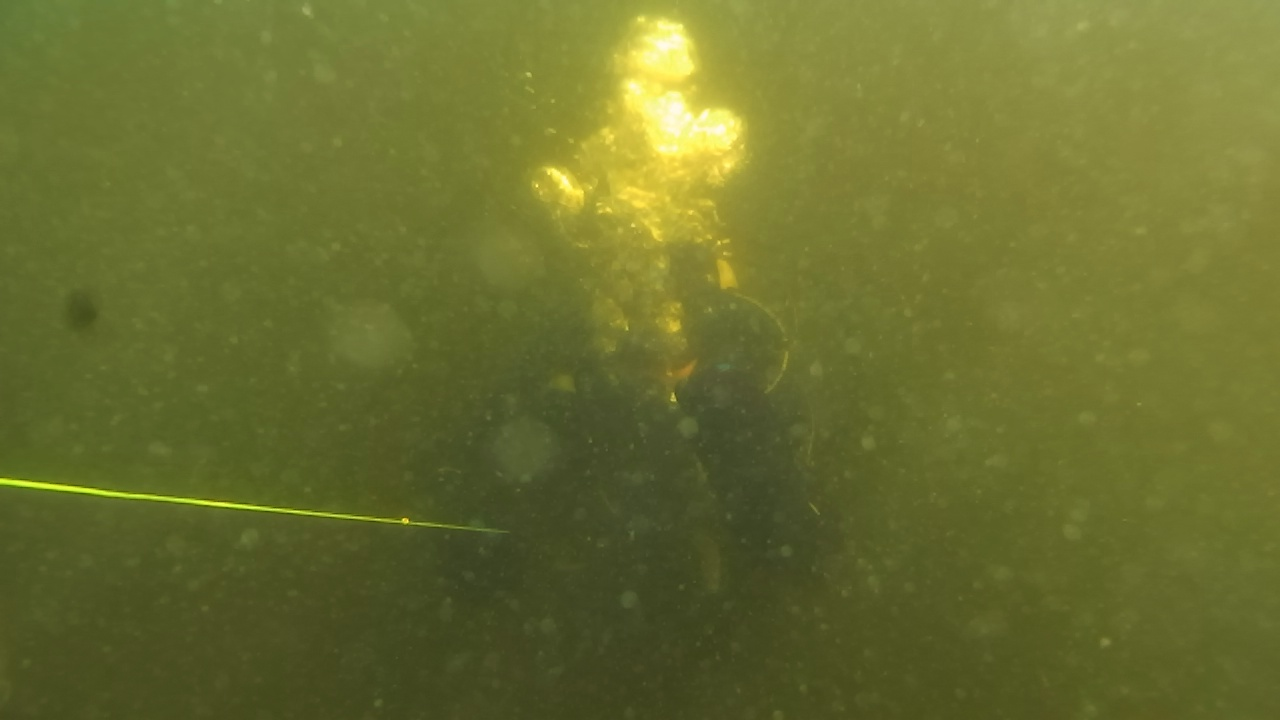Diver: (420, 166, 846, 696)
